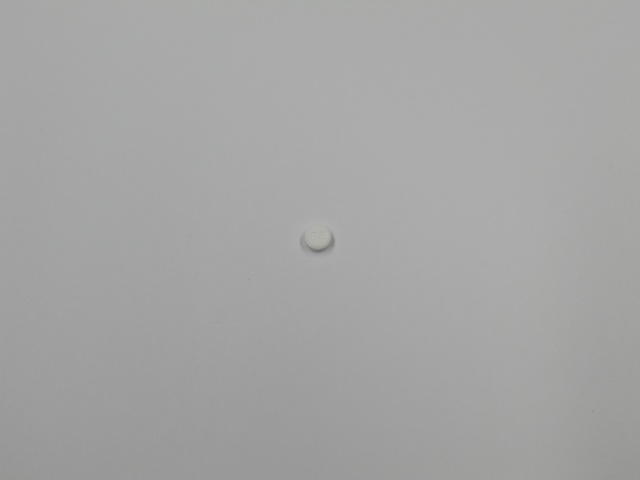E: (319, 230, 325, 243)
F: (309, 230, 318, 243)
